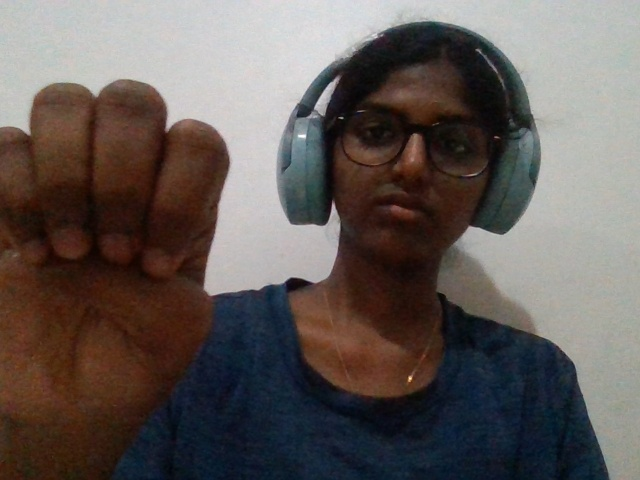E: (3, 63, 250, 468)
